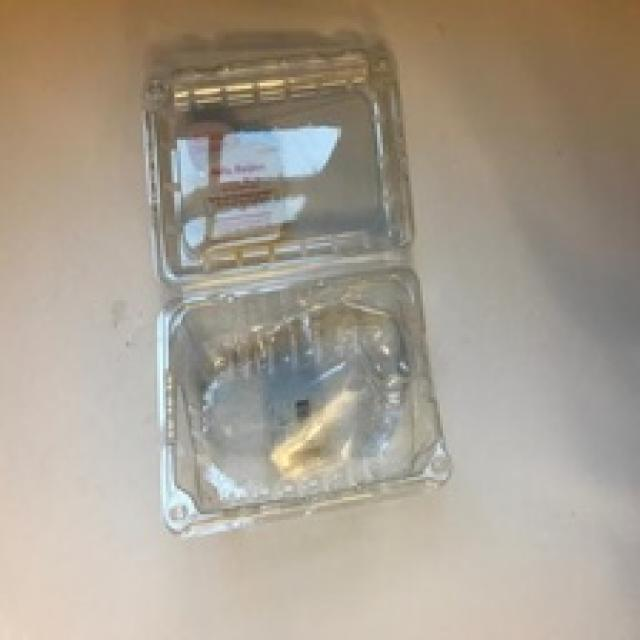Plastic: (142, 31, 446, 540)
